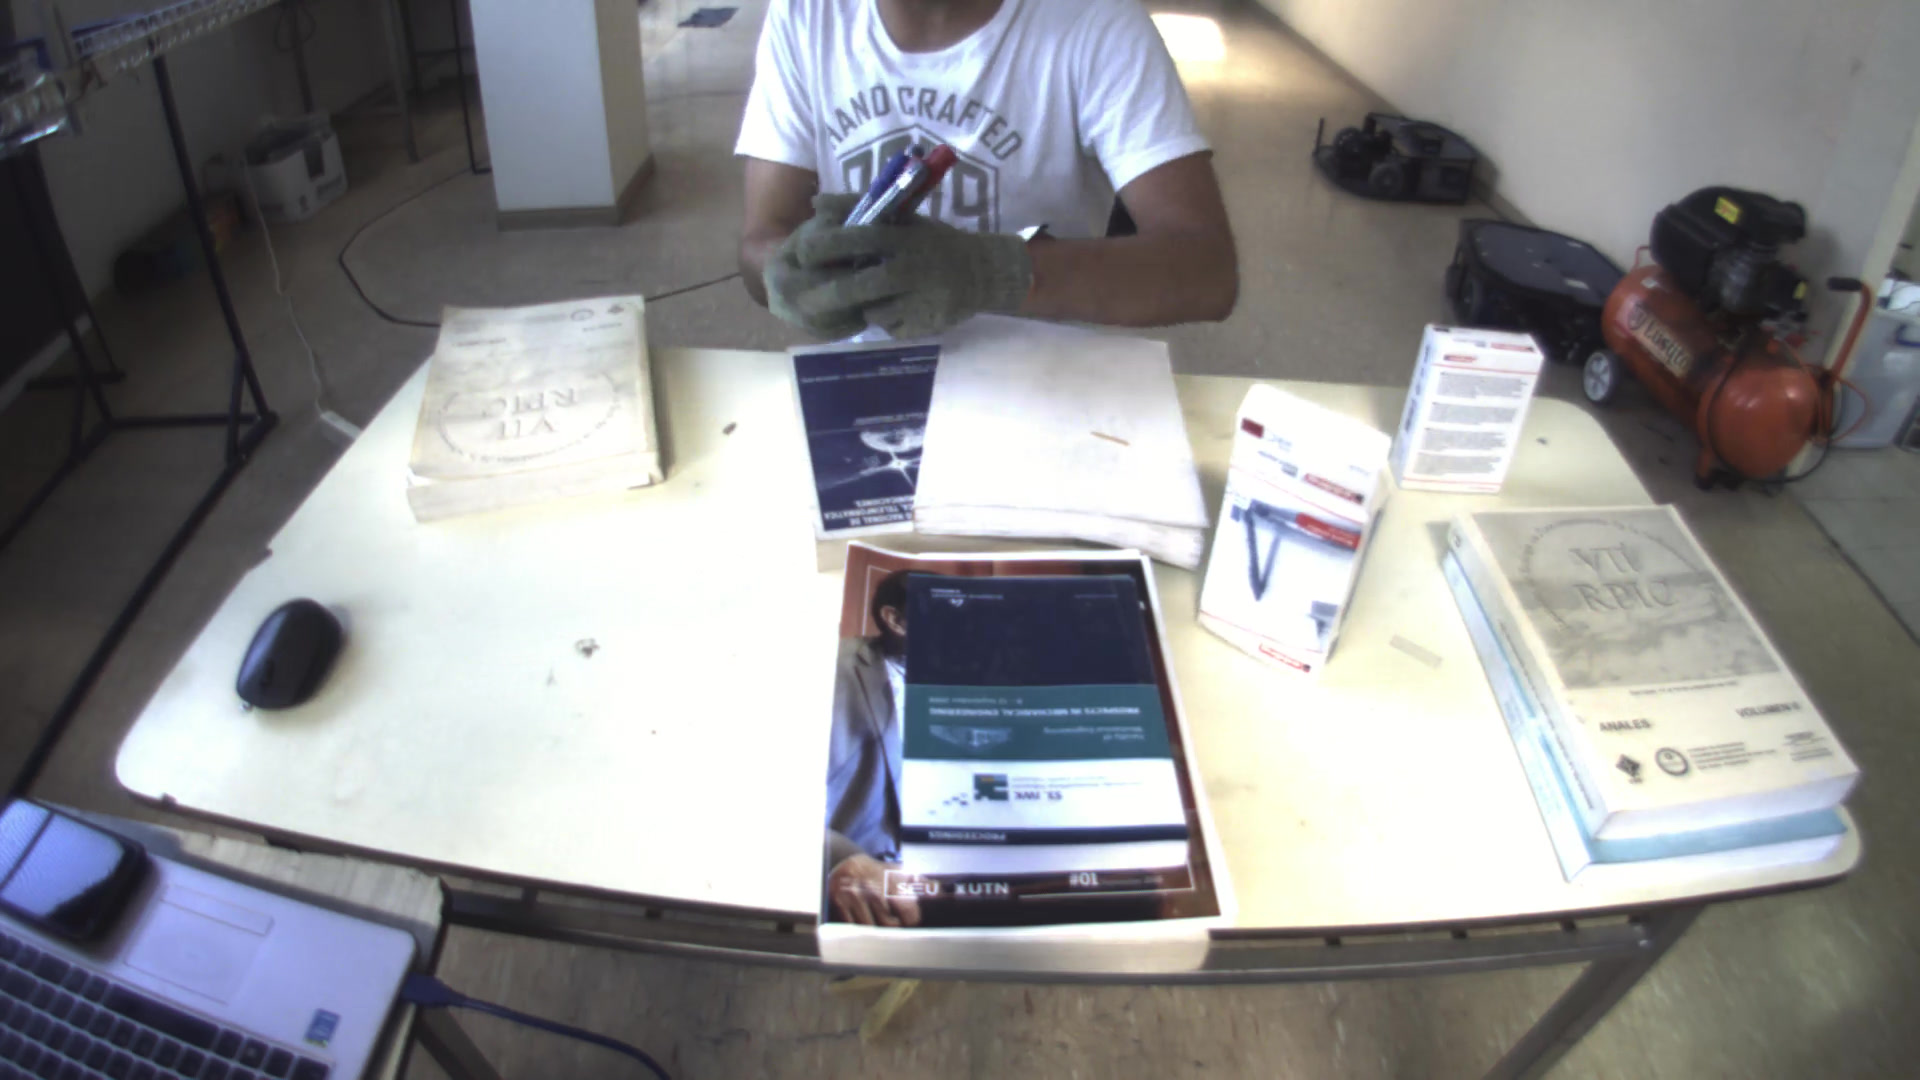hand: (789, 189, 1039, 349)
